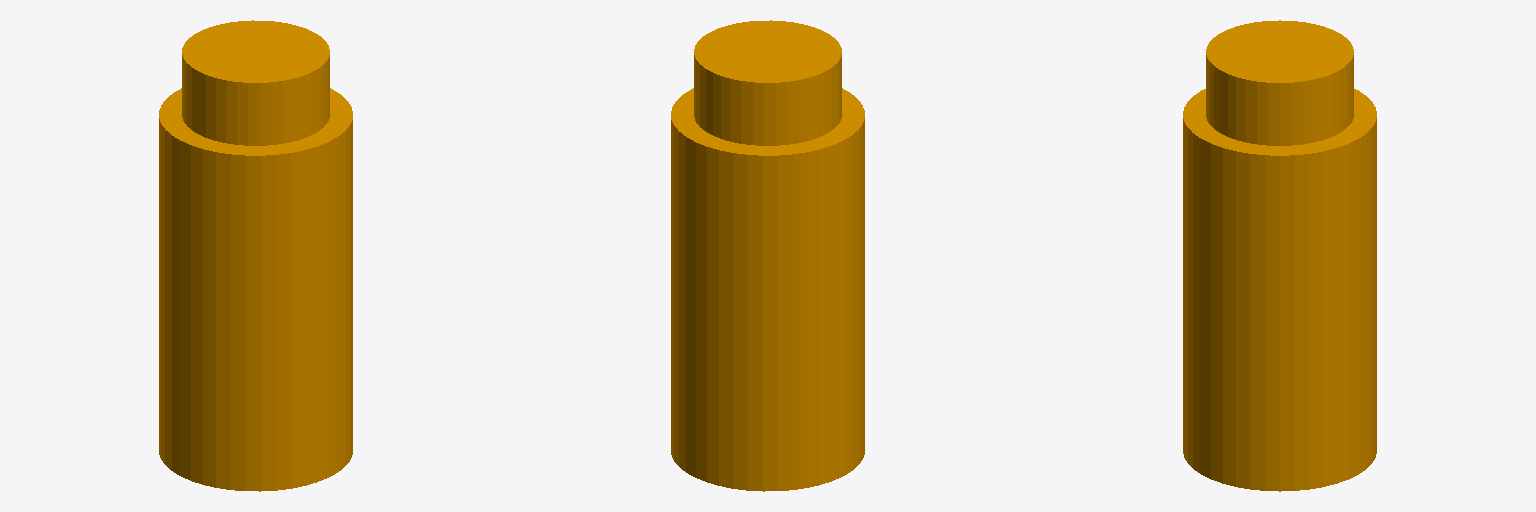
The robot description file, URDF, robot "fixed_drink_bottle":
<?xml version='1.0' encoding='utf-8'?>
<robot name="fixed_drink_bottle">
  <link name="body">
    <inertial>
      <origin xyz="1.3516649722588608e-20 -2.4510191496960676e-18 0.08932515337423313" />
      <mass value="0.3" />
      <inertia ixx="0.0009453973890259724" iyy="0.0009453973890259724" izz="0.00025266312085747076" ixy="6.462648148612676e-22" ixz="-1.5857766624233525e-20" iyz="-3.107867515110829e-20" />
    </inertial>
    <collision>
      <geometry>
        <mesh filename="part_00.obj" />
      </geometry>
    </collision>
    <collision>
      <geometry>
        <mesh filename="part_01.obj" />
      </geometry>
    </collision>
    <visual>
      <geometry>
        <mesh filename="visual.obj" />
      </geometry>
    </visual>
  </link>
</robot>

--- Render facts (derived) ---
3 views of the same robot in one strip: view 1: azimuth 30°, elevation 25°; view 2: azimuth 150°, elevation 25°; view 3: azimuth 270°, elevation 25° (orthographic).
Robot: fixed_drink_bottle — 1 links, 0 joints (none); root link body; default pose: every joint at zero.
Visible links, largest first — view 1: body; view 2: body; view 3: body.
Boxes of the visible links, x1,y1,x2,y2 form: body: (159, 20, 352, 491); body: (671, 20, 864, 491); body: (1183, 20, 1376, 491).
Bounding box of the posed robot: 0.084 × 0.084 × 0.19 m (x, y, z).
Meshes: 1 distinct files referenced, 1 mesh visuals loaded (1 OBJ).
